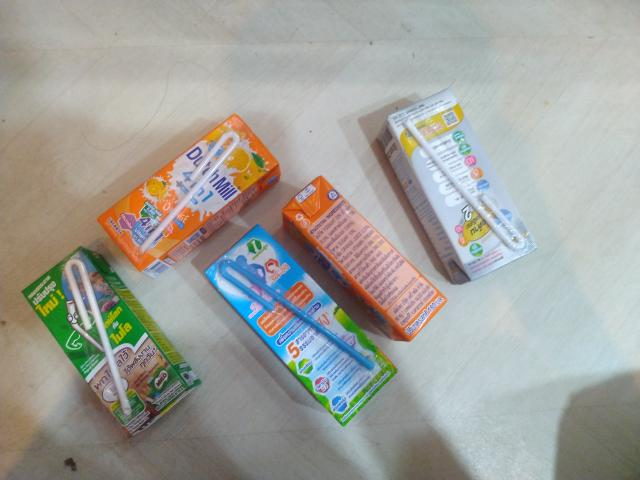drink_box: (191, 215, 420, 444), (361, 75, 556, 304), (12, 228, 217, 443), (91, 98, 302, 290), (270, 162, 460, 344)
